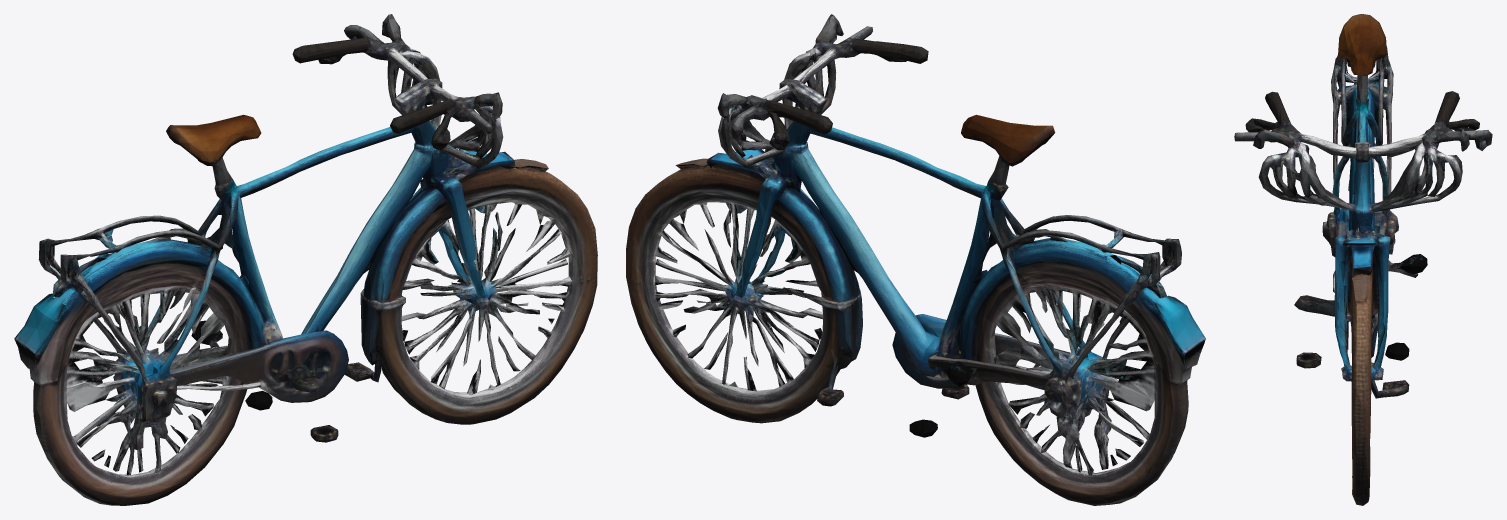
File: old_bicycle_42_20251230_114023_20251230_115021.glb
3 renders of one model, left to right at view 1: azimuth 30°, elevation 25°; view 2: azimuth 150°, elevation 25°; view 3: azimuth 270°, elevation 25°, orthographic. The views are drawn at different scales.
Parts seen in each view (by area): view 1: world; view 2: world; view 3: world.
Boxes of the visible parts, box(x1,y1,x2,y2) form: world: box(14, 14, 597, 505); world: box(626, 14, 1205, 505); world: box(1234, 14, 1492, 505).
Size of the model in its own units: 1 by 0.6321 by 0.4233.
Materials: 1 (1 with a texture image).
